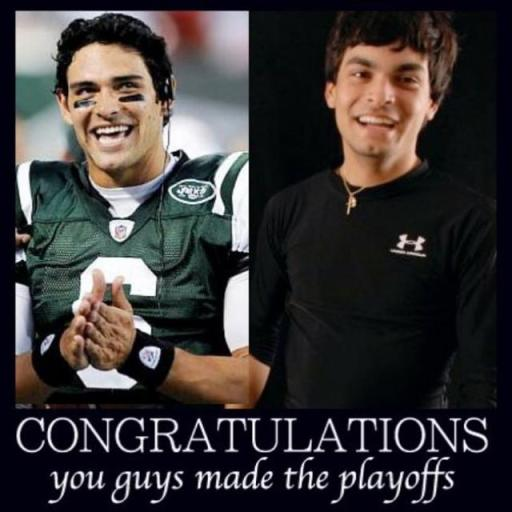Under Armour: (389, 231, 430, 260)
